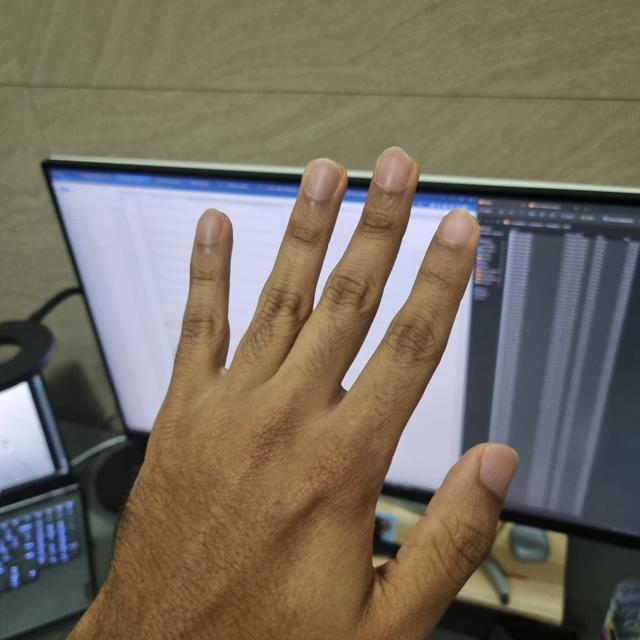Paper: (53, 146, 514, 639)
